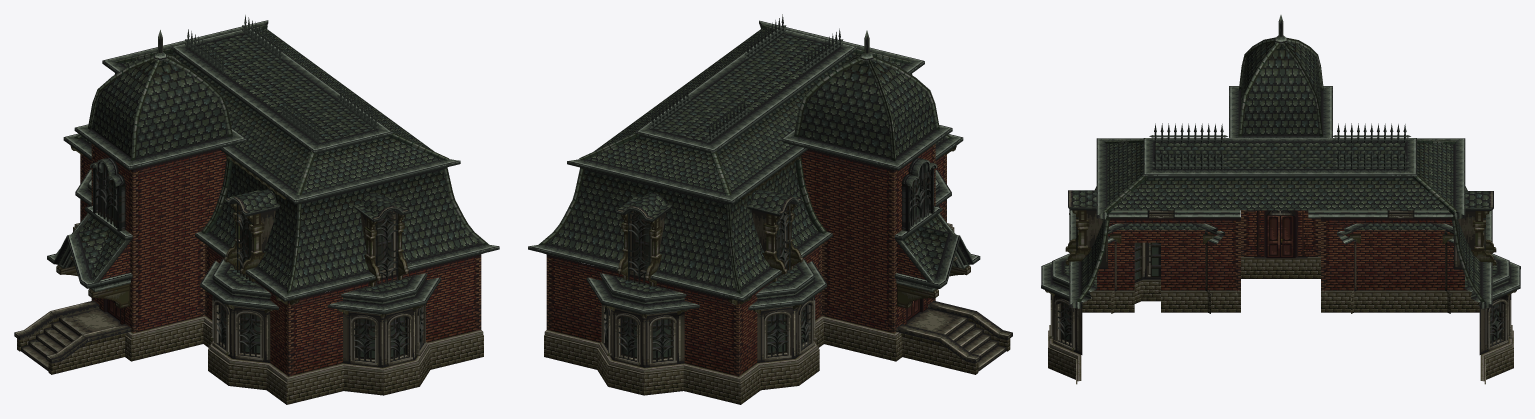
Rendered from EnvBdgMD_Forest_MothersGarden_A.fbx.
3 views of the same model, side by side, from view 1: azimuth 30°, elevation 25°; view 2: azimuth 150°, elevation 25°; view 3: azimuth 270°, elevation 25° (orthographic). The views are drawn at different scales.
Visible parts, largest first — view 1: EnvBdgMD_Forest_MothersGarden_A; view 2: EnvBdgMD_Forest_MothersGarden_A; view 3: EnvBdgMD_Forest_MothersGarden_A.
Part boxes in pixels (left/top/right/bottom): EnvBdgMD_Forest_MothersGarden_A: left=14, top=15, right=499, bottom=404; EnvBdgMD_Forest_MothersGarden_A: left=528, top=14, right=1012, bottom=404; EnvBdgMD_Forest_MothersGarden_A: left=1041, top=15, right=1520, bottom=384.
Size of the model in its own units: 1482 by 1200 by 1801.
